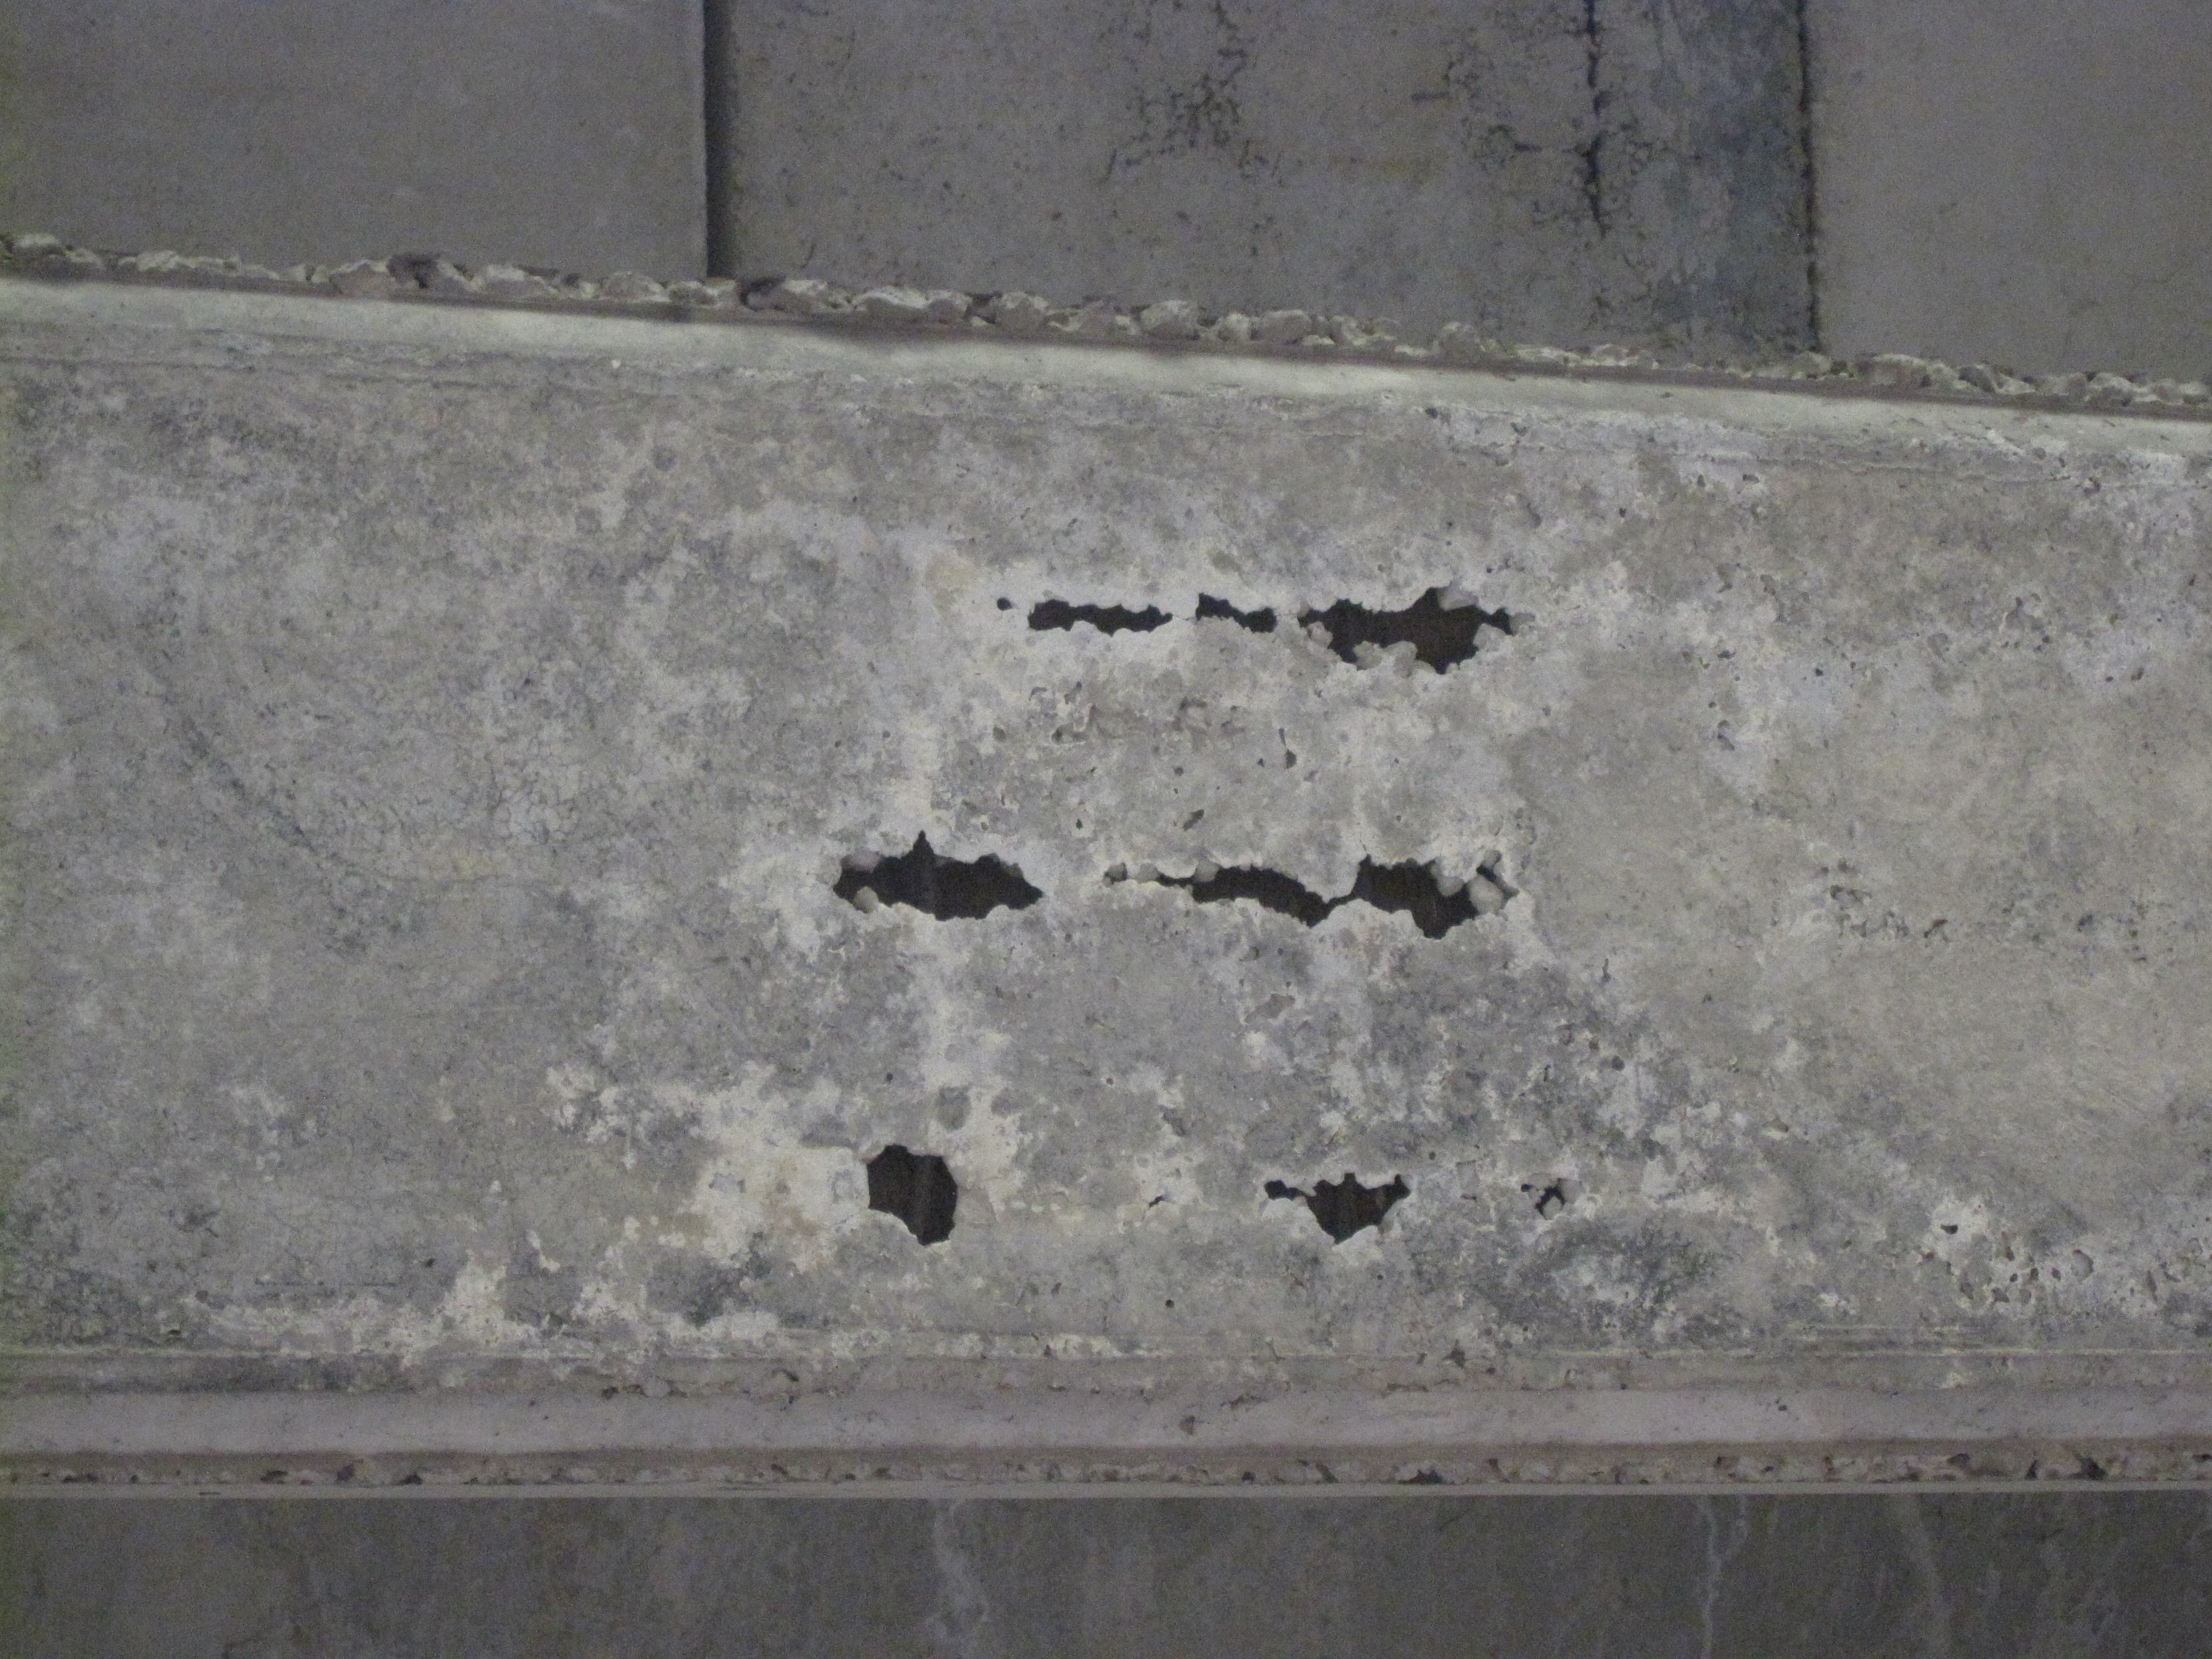Spalling: (995, 582, 1534, 676), (1103, 847, 1521, 939), (831, 829, 1043, 922), (1263, 1171, 1413, 1244), (866, 1143, 958, 1248), (1519, 1183, 1568, 1216)
